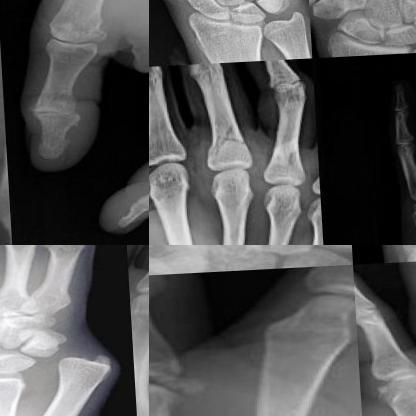fracture: (202, 117, 249, 157)
